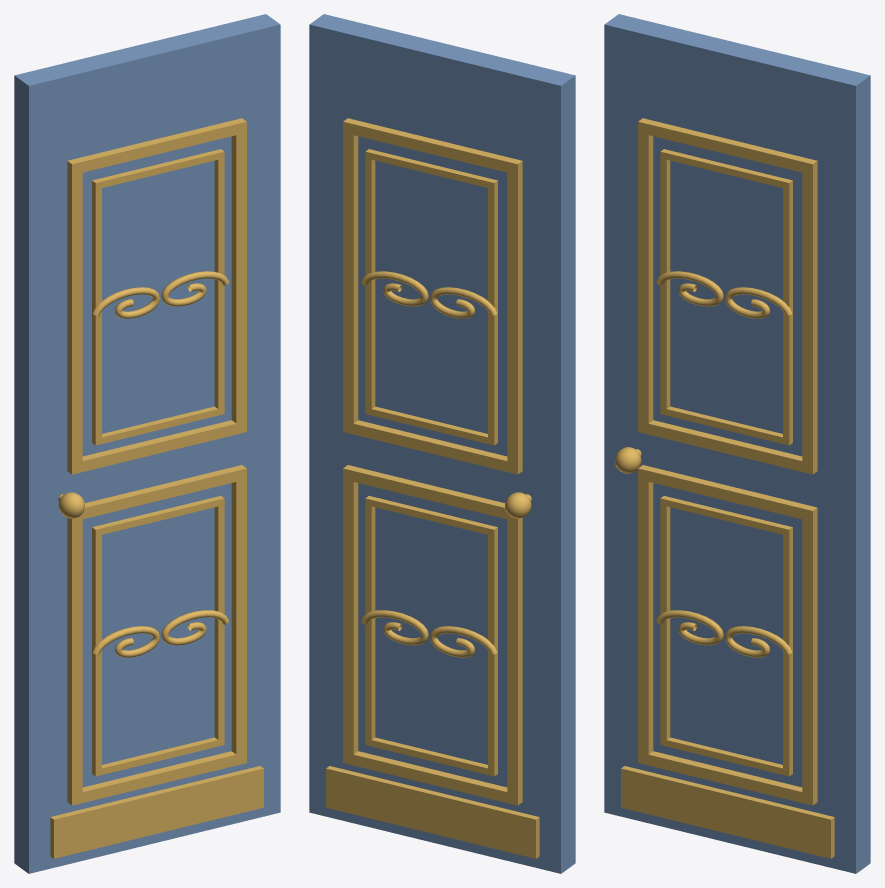
File: KRM_DOOR_03_DOOR_HINGE___Wing_end_RIGHT___B.fbx
3 renders of one model, left to right at view 1: azimuth 30°, elevation 25°; view 2: azimuth 150°, elevation 25°; view 3: azimuth 330°, elevation 25°, orthographic.
Parts seen in each view (by area): view 1: KRM_DOOR_03_DOOR_HINGE___Wing_end_RIGHT___B; view 2: KRM_DOOR_03_DOOR_HINGE___Wing_end_RIGHT___B; view 3: KRM_DOOR_03_DOOR_HINGE___Wing_end_RIGHT___B.
Part boxes in pixels (x1,y1,x2,y2): KRM_DOOR_03_DOOR_HINGE___Wing_end_RIGHT___B: (14,14,280,873); KRM_DOOR_03_DOOR_HINGE___Wing_end_RIGHT___B: (309,14,575,873); KRM_DOOR_03_DOOR_HINGE___Wing_end_RIGHT___B: (604,14,870,873).
Size of the model in its own units: 121 by 362 by 40.
1 material, 1 textured.
